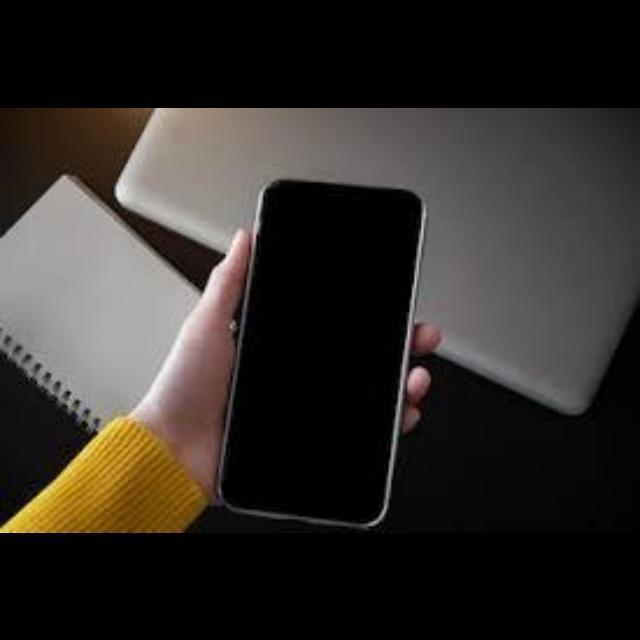phone: (233, 173, 413, 521)
